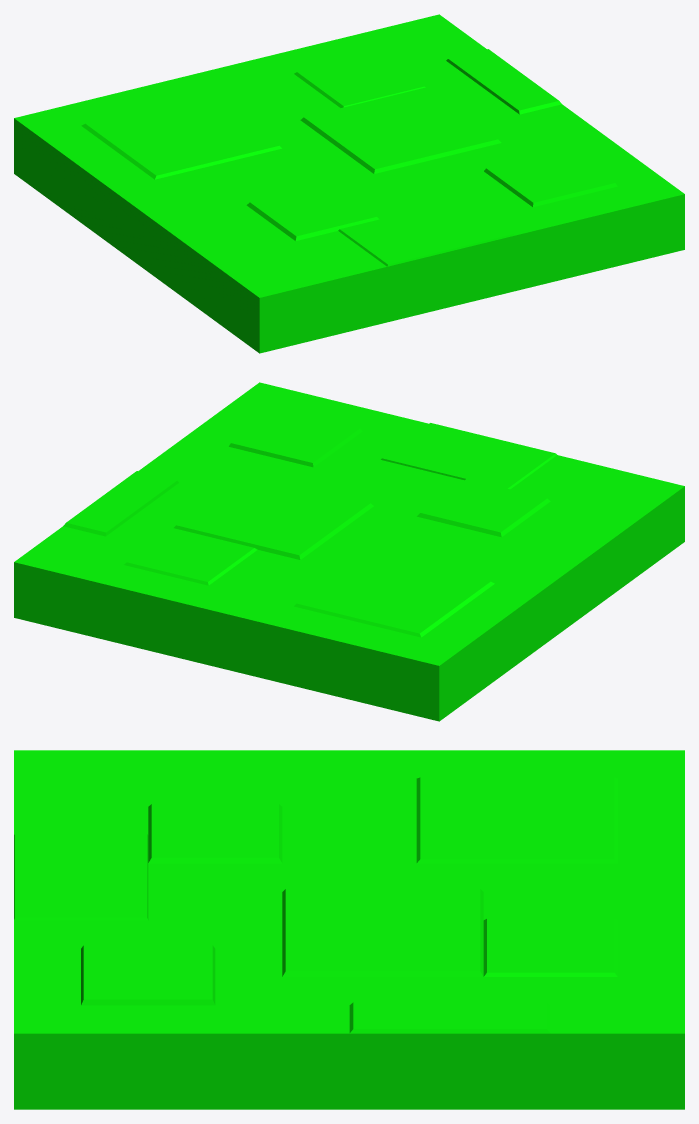
Rendered from GROUND_BASIC_1.fbx.
The picture shows the model from 3 angles, top to bottom: view 1: azimuth 30°, elevation 25°; view 2: azimuth 150°, elevation 25°; view 3: azimuth 270°, elevation 25°; orthographic projection. The views are drawn at different scales.
Visible parts, largest first — view 1: GROUND_BASIC_1; view 2: GROUND_BASIC_1; view 3: GROUND_BASIC_1.
Boxes of the visible parts, <box> form: GROUND_BASIC_1: <box>14,14,684,353</box>; GROUND_BASIC_1: <box>14,382,684,721</box>; GROUND_BASIC_1: <box>14,750,684,1109</box>.
Bounding box in the file's own units: 400 × 53 × 400.
